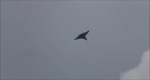maybay_muctieu: (73, 28, 90, 42)
